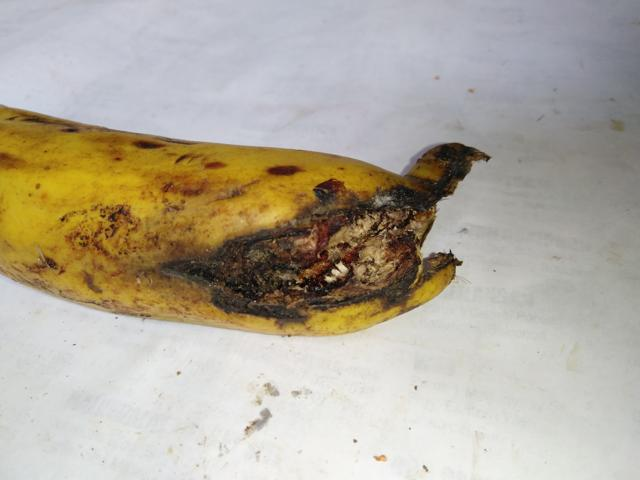rotten: (169, 145, 481, 390)
